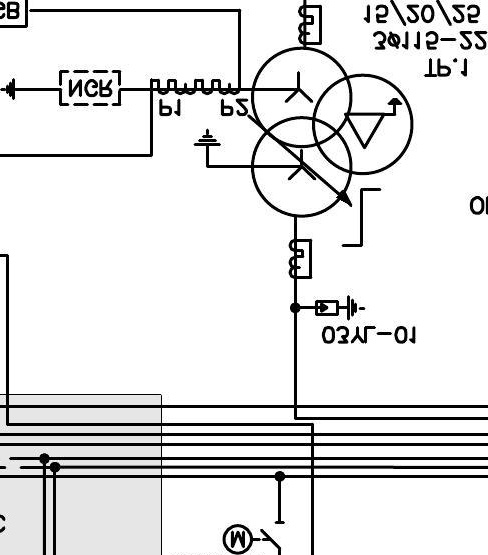11522_tx_ynyn0d1: (250, 45, 415, 219)
115_la: (314, 295, 366, 321)
